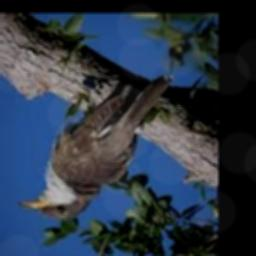Cuckoo: (19, 75, 174, 218)
